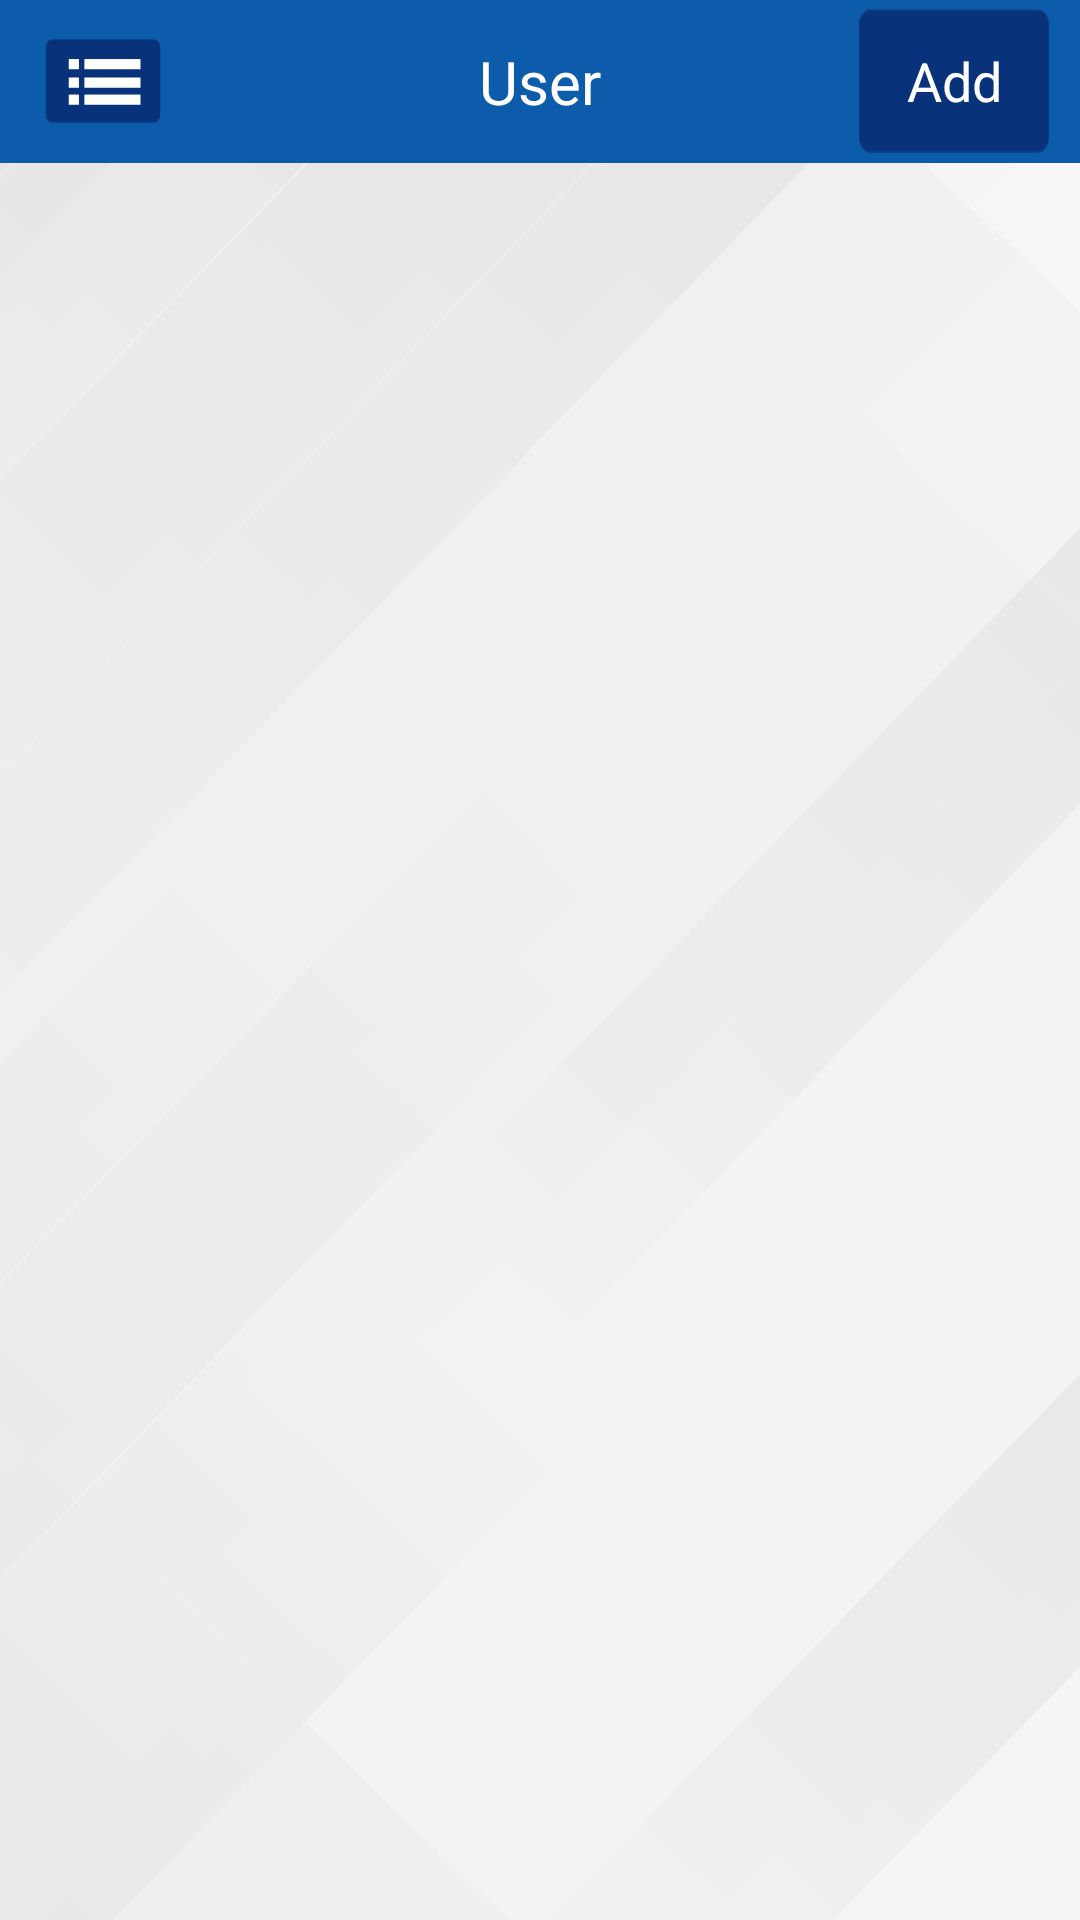

Screen size 1080 × 1920. Icon name, then its box in pixels as Rect(x1, y1, x2, y2):
list but: Rect(46, 39, 160, 123)
